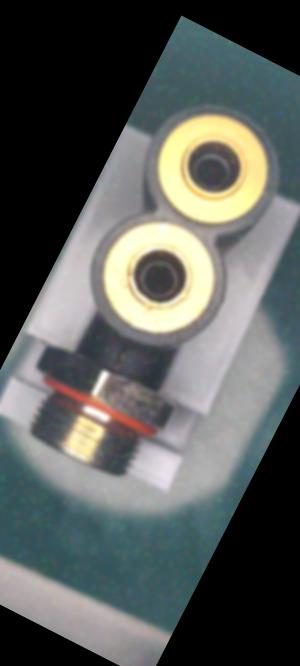craze: (104, 344, 134, 377)
